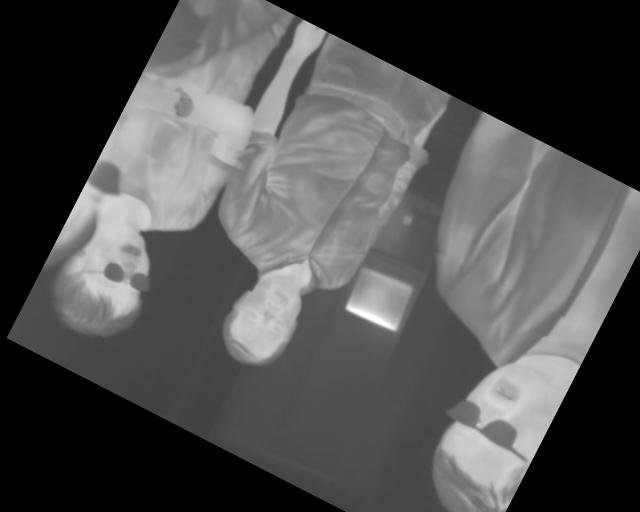face: (407, 341, 570, 512), (40, 209, 171, 355), (209, 262, 316, 380)
